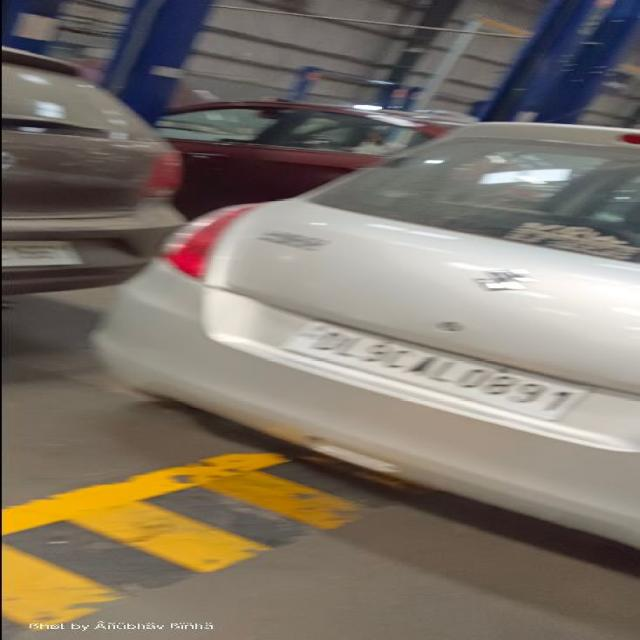license_plate: (277, 319, 591, 422), (0, 239, 84, 268)
